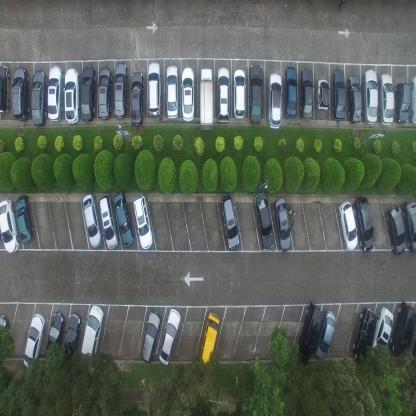car: (296, 300, 324, 364), (389, 302, 416, 358), (80, 304, 104, 364), (158, 307, 182, 367), (352, 307, 377, 362), (198, 311, 221, 370), (352, 196, 374, 254), (23, 313, 45, 370), (370, 306, 394, 357), (254, 190, 274, 250), (132, 194, 153, 251), (113, 191, 134, 247), (82, 192, 103, 248), (140, 309, 162, 362), (99, 192, 119, 249), (0, 198, 20, 254), (314, 311, 337, 359), (198, 65, 214, 131), (221, 193, 240, 248), (338, 200, 358, 252), (62, 311, 82, 363), (274, 195, 292, 252), (386, 204, 406, 255), (30, 68, 47, 126), (12, 65, 29, 121), (15, 194, 34, 244), (80, 64, 96, 122), (47, 64, 63, 122), (46, 311, 64, 362), (180, 66, 196, 122), (362, 68, 378, 124), (266, 72, 282, 128), (64, 68, 80, 124), (248, 62, 262, 124), (148, 61, 163, 118), (216, 67, 231, 123), (97, 65, 112, 121), (378, 73, 394, 125), (113, 61, 127, 119), (130, 69, 144, 126), (402, 199, 416, 254), (347, 74, 363, 122), (166, 65, 180, 119), (331, 69, 346, 119), (299, 67, 313, 120), (284, 66, 297, 119), (395, 81, 411, 124), (233, 68, 245, 120), (0, 63, 11, 116), (316, 79, 330, 112), (0, 314, 10, 360), (410, 75, 415, 124)
